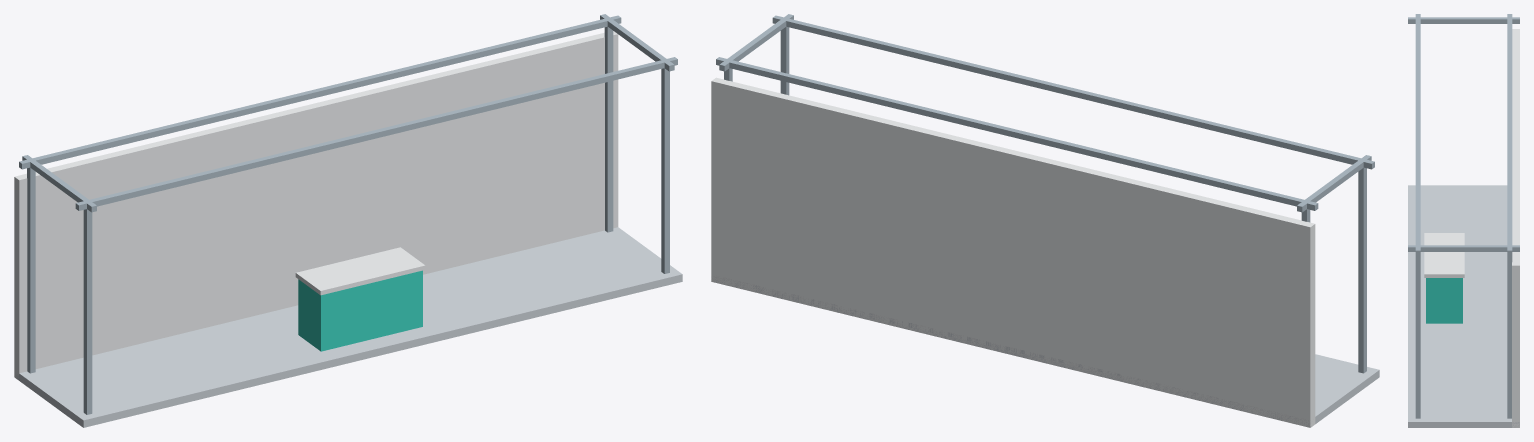
3 views of the same model, side by side, from view 1: azimuth 30°, elevation 25°; view 2: azimuth 150°, elevation 25°; view 3: azimuth 270°, elevation 25° (orthographic). The views are drawn at different scales.
Parts seen in each view (by area): view 1: Exhibition Booth Concept; view 2: Exhibition Booth Concept; view 3: Exhibition Booth Concept.
Boxes of the visible parts, x1,y1,x2,y2 form: Exhibition Booth Concept: (14, 14, 682, 427); Exhibition Booth Concept: (711, 14, 1379, 427); Exhibition Booth Concept: (1408, 14, 1519, 427).
Size of the model in its own units: 10 by 3.49 by 2.
